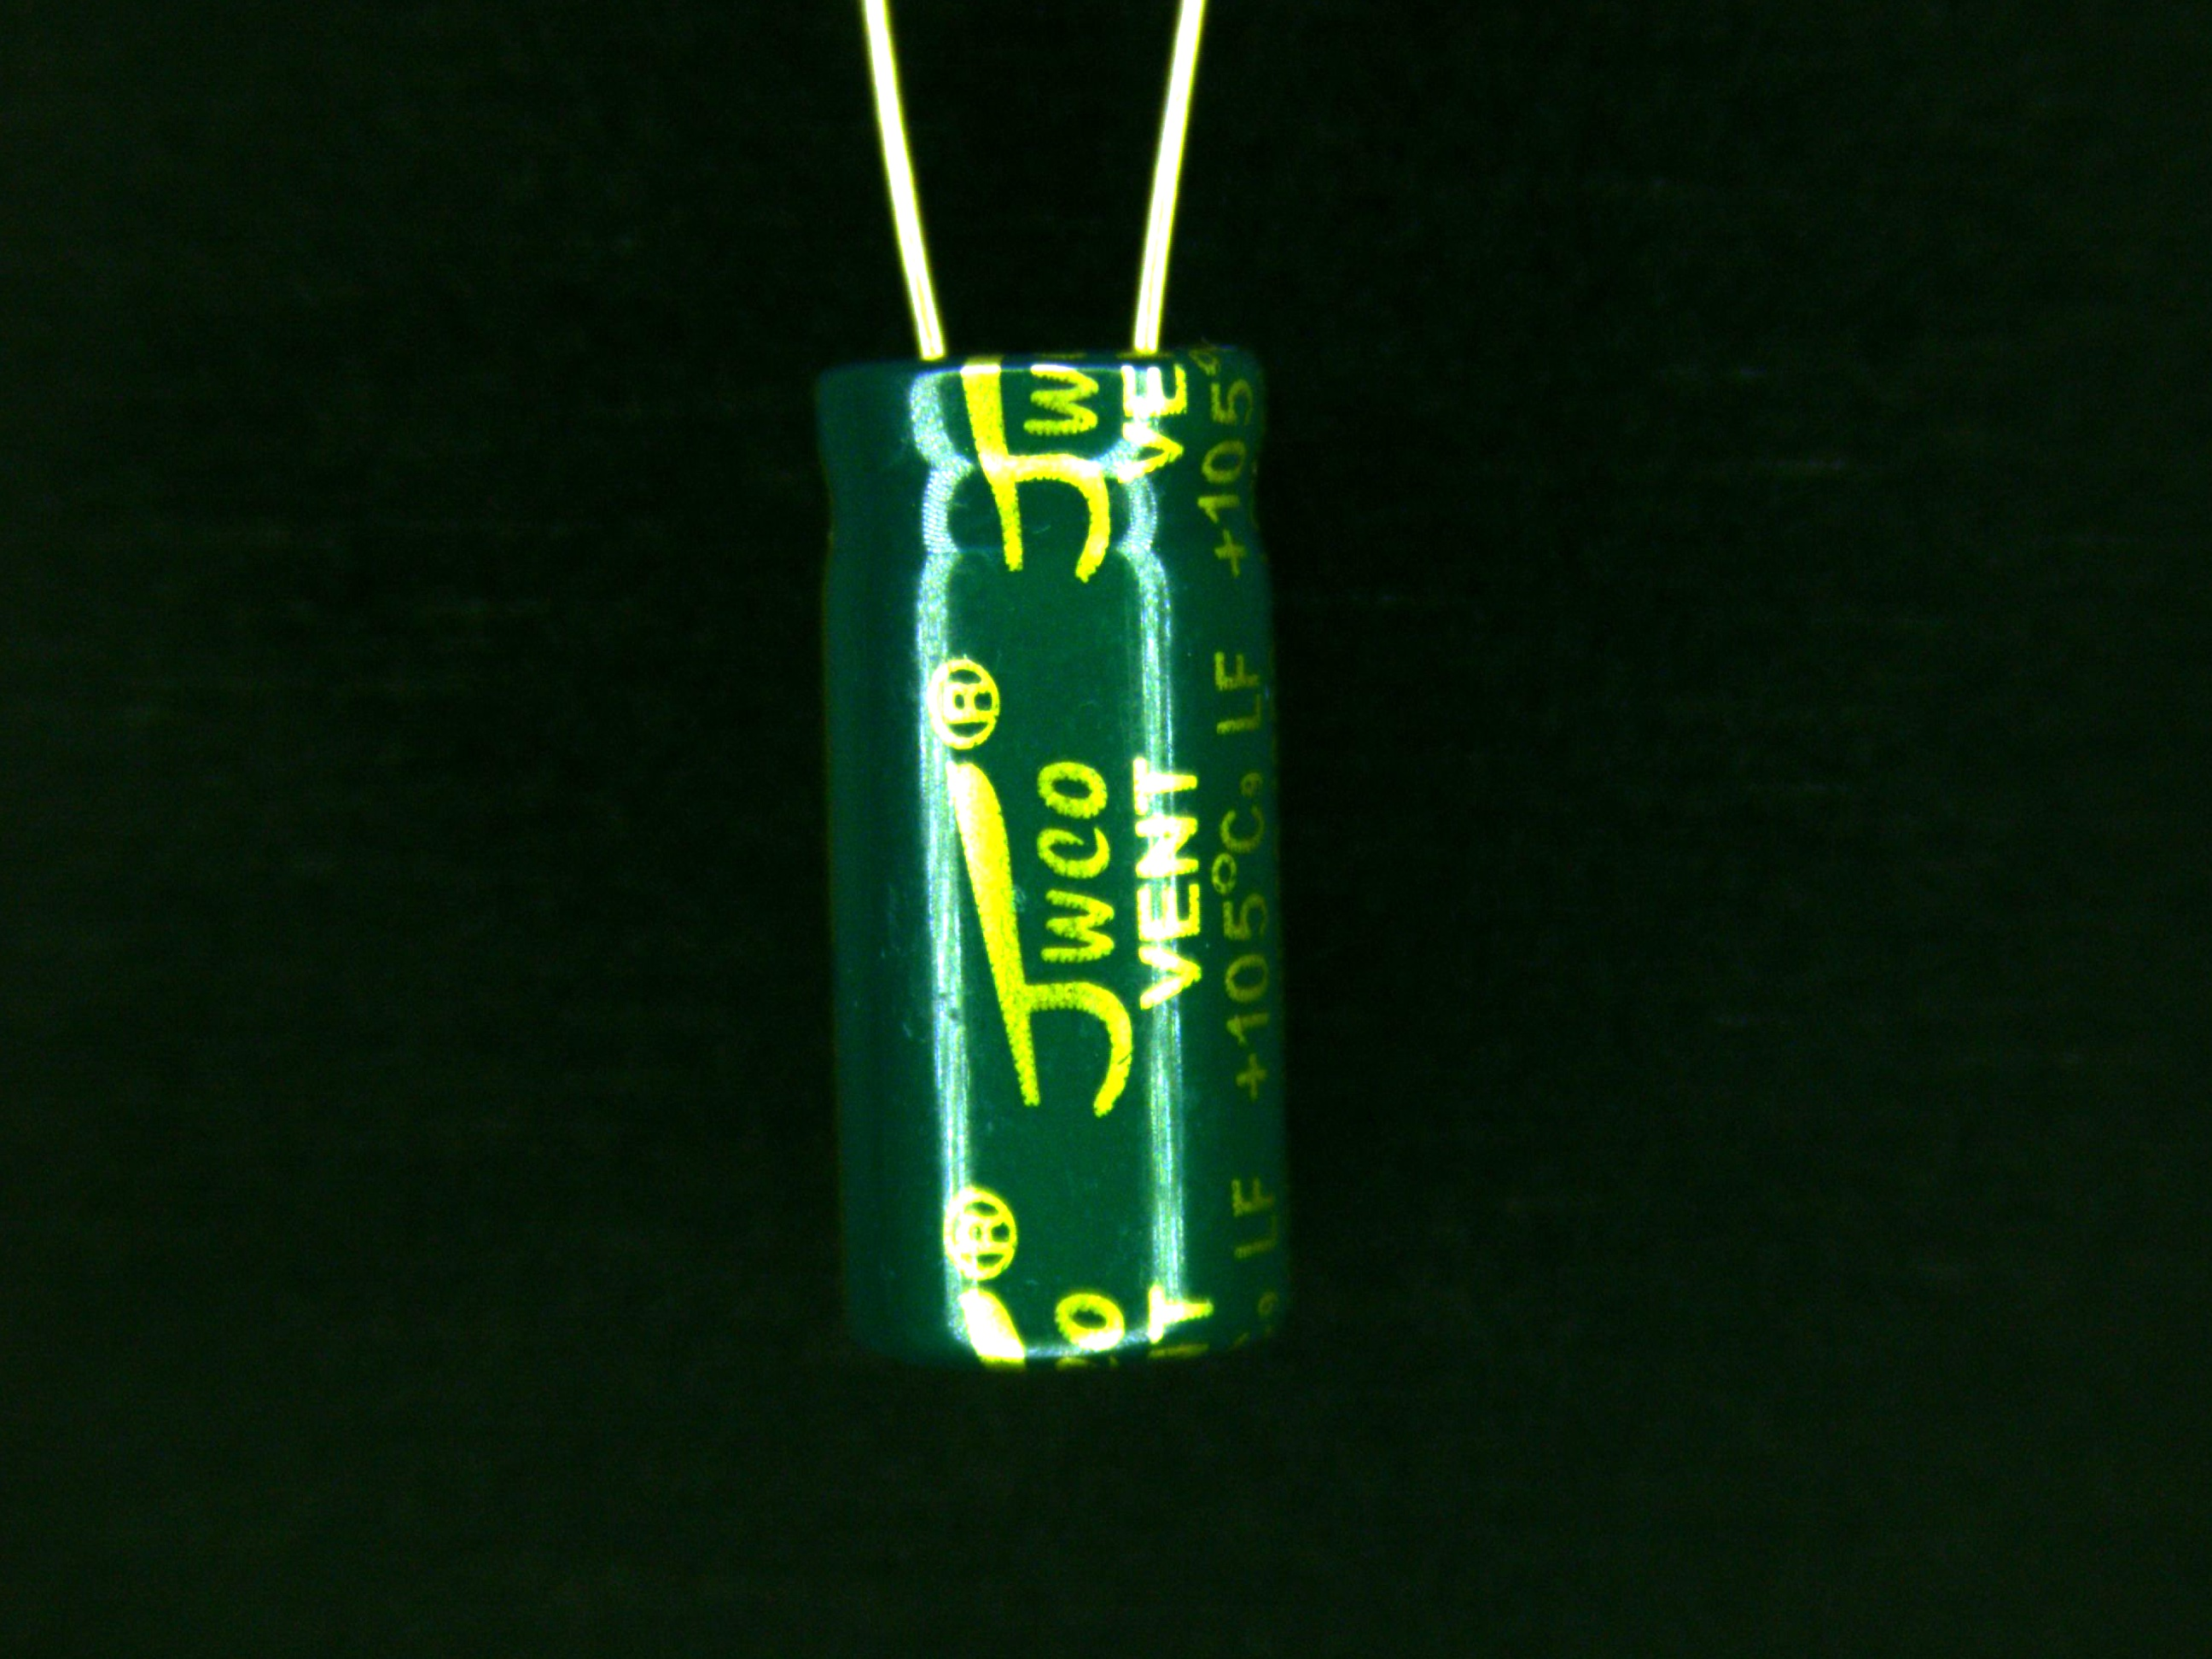c1: (805, 221, 1299, 1375)
